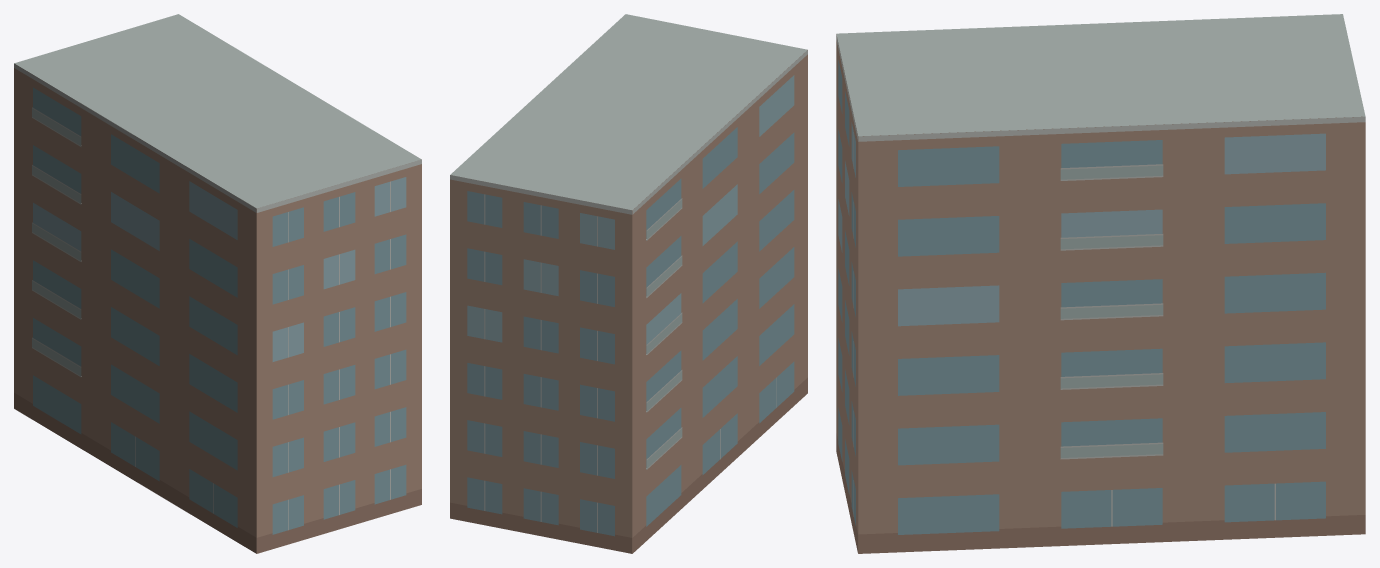
The model's file is survey-upis-32654163.glb.
The picture shows the model from 3 angles, left to right: view 1: azimuth 30°, elevation 25°; view 2: azimuth 150°, elevation 25°; view 3: azimuth 270°, elevation 25°; orthographic projection. The views are drawn at different scales.
Visible parts, largest first — view 1: survey-upis-32654163.tmp; view 2: survey-upis-32654163.tmp; view 3: survey-upis-32654163.tmp.
Boxes of the visible parts, bbox=[...] form: survey-upis-32654163.tmp: bbox=[14, 14, 421, 553]; survey-upis-32654163.tmp: bbox=[450, 14, 807, 553]; survey-upis-32654163.tmp: bbox=[836, 14, 1365, 553].
Size of the model in its own units: 11.57 by 18.4 by 21.14.
